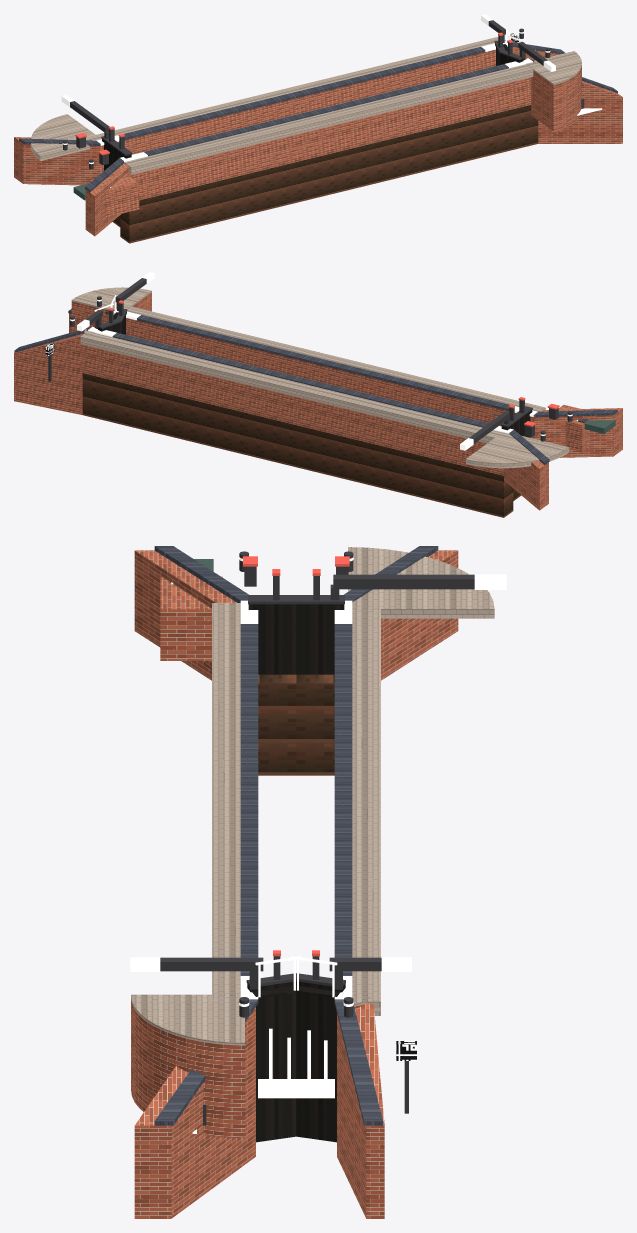
File: lock-46.glb
The picture shows the model from 3 angles, top to bottom: view 1: azimuth 30°, elevation 25°; view 2: azimuth 150°, elevation 25°; view 3: azimuth 270°, elevation 25°; orthographic projection. The views are drawn at different scales.
Parts seen in each view (by area): view 1: Chamber, ChamberWet, Edge, Coping.001, TopGateCap, Coping, TopGate; view 2: Chamber, ChamberWet, Edge, Coping.001, TopGateCap, Coping, TopGate; view 3: Chamber, Edge, Coping.001, TopGate, TopGateCap, ChamberWet, Coping, Leak.
Boxes of the visible parts, x1=… form: Chamber: x1=14, y1=42, x2=622, y2=236; ChamberWet: x1=112, y1=105, x2=538, y2=243; Edge: x1=31, y1=37, x2=581, y2=174; Coping.001: x1=19, y1=42, x2=617, y2=192; TopGateCap: x1=63, y1=20, x2=584, y2=169; Coping: x1=61, y1=14, x2=555, y2=164; TopGate: x1=102, y1=44, x2=526, y2=170; Chamber: x1=14, y1=292, x2=622, y2=510; ChamberWet: x1=82, y1=373, x2=521, y2=517; Edge: x1=71, y1=287, x2=569, y2=468; Coping.001: x1=14, y1=309, x2=617, y2=464; TopGateCap: x1=48, y1=278, x2=572, y2=443; Coping: x1=70, y1=272, x2=572, y2=450; TopGate: x1=94, y1=312, x2=532, y2=437; Chamber: x1=131, y1=550, x2=458, y2=1218; Edge: x1=131, y1=547, x2=494, y2=1044; Coping.001: x1=154, y1=546, x2=438, y2=1125; TopGate: x1=247, y1=604, x2=345, y2=1142; TopGateCap: x1=160, y1=551, x2=474, y2=1125; ChamberWet: x1=258, y1=674, x2=334, y2=775; Coping: x1=130, y1=557, x2=506, y2=1006; Leak: x1=171, y1=582, x2=334, y2=1133.
Bounding box in the file's own units: 33.27 × 5.8 × 10.24.
Materials: 11 (8 with a texture image).
